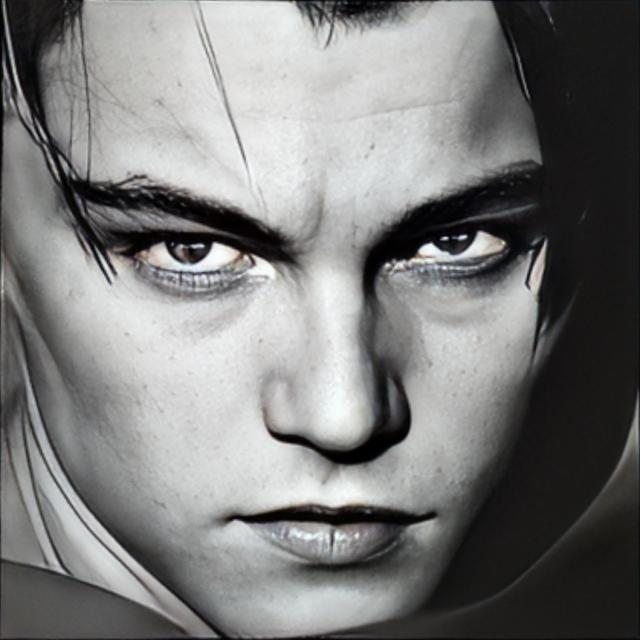anger: (16, 0, 554, 637)
